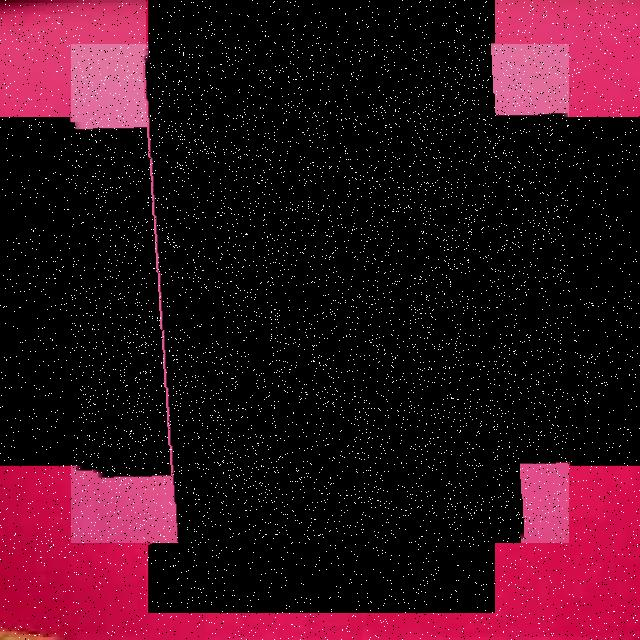dua ribu rupiah: (71, 44, 569, 543)
